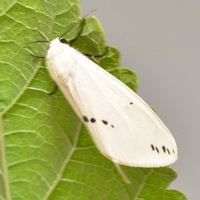insect: (26, 58, 185, 199), (62, 17, 137, 91)
